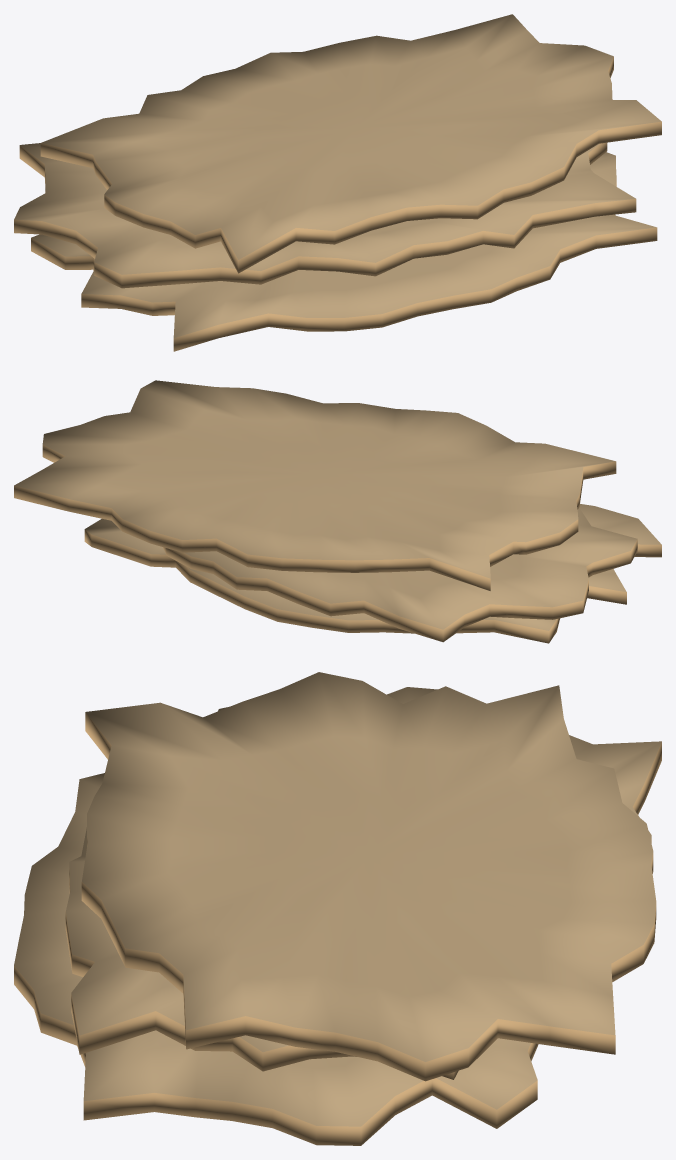
The model's file is w3d_pelt_goat_hide_m.glb.
3 views of the same model, one above another, from view 1: azimuth 30°, elevation 25°; view 2: azimuth 150°, elevation 25°; view 3: azimuth 270°, elevation 25° (orthographic). The views are drawn at different scales.
Visible parts, largest first — view 1: w3d_pelt_goat_hide_m; view 2: w3d_pelt_goat_hide_m; view 3: w3d_pelt_goat_hide_m.
Part boxes in pixels (x1=…): w3d_pelt_goat_hide_m: x1=14, y1=14, x2=661, y2=351; w3d_pelt_goat_hide_m: x1=14, y1=380, x2=661, y2=643; w3d_pelt_goat_hide_m: x1=14, y1=672, x2=661, y2=1145.
Bounding box in the file's own units: 0.6852 × 0.1064 × 0.4575.
